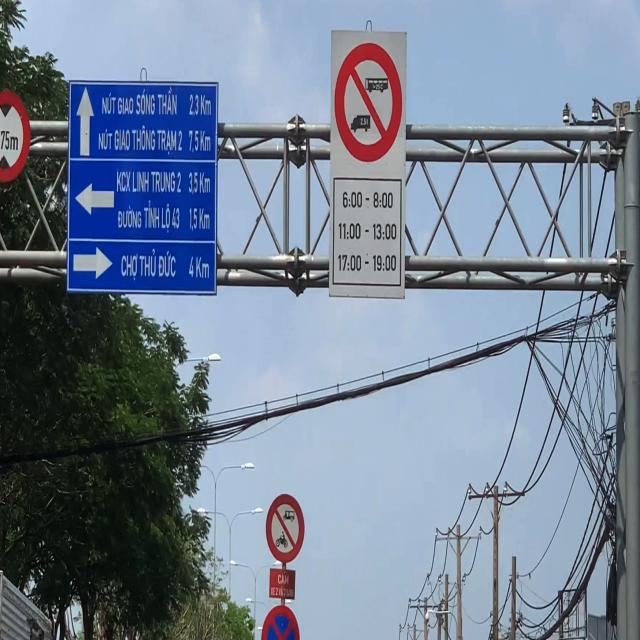Cam con lai: (335, 43, 402, 166), (266, 494, 305, 566)
Cam dung va do: (261, 605, 300, 640)
Chieu cao toi da: (0, 90, 31, 182)
